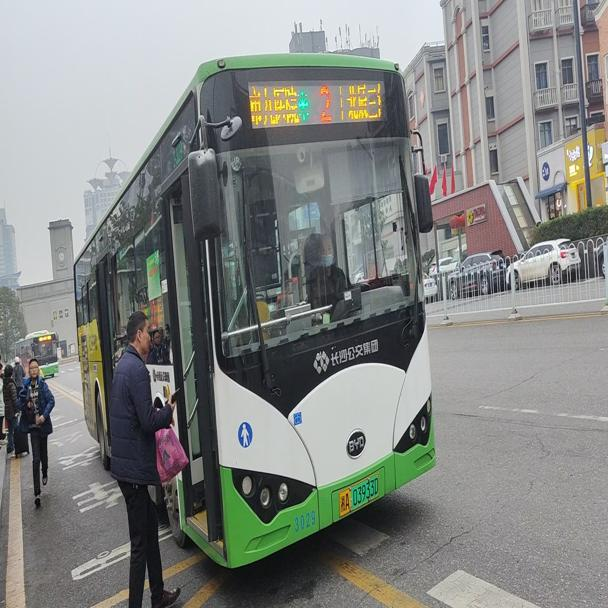bus: (74, 48, 437, 569)
screen: (309, 77, 336, 121)
